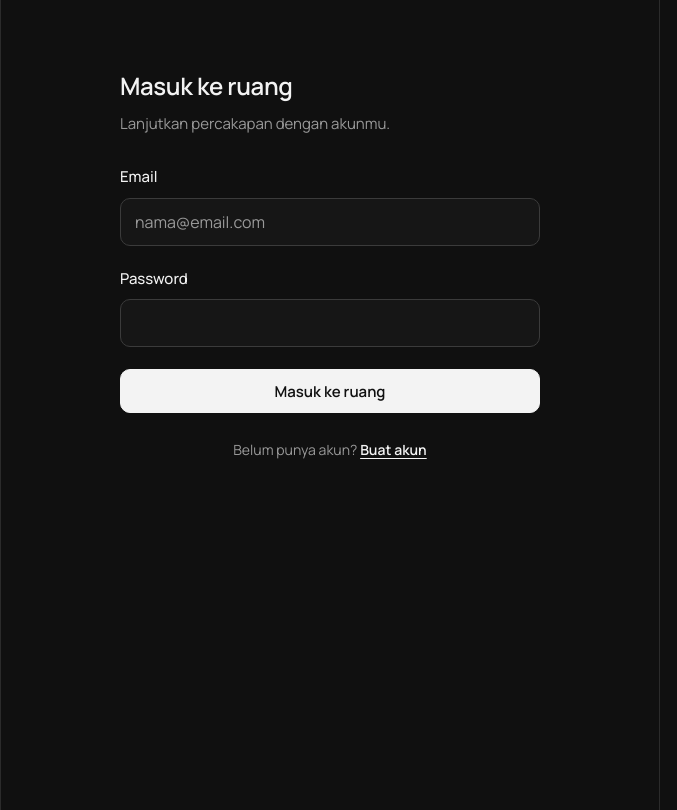
Test case: keeps the email and allows retry when login fails
Type "ayu@example.com" into the field labelled "Email" at coordinates (330, 222), box [120, 198, 540, 246]
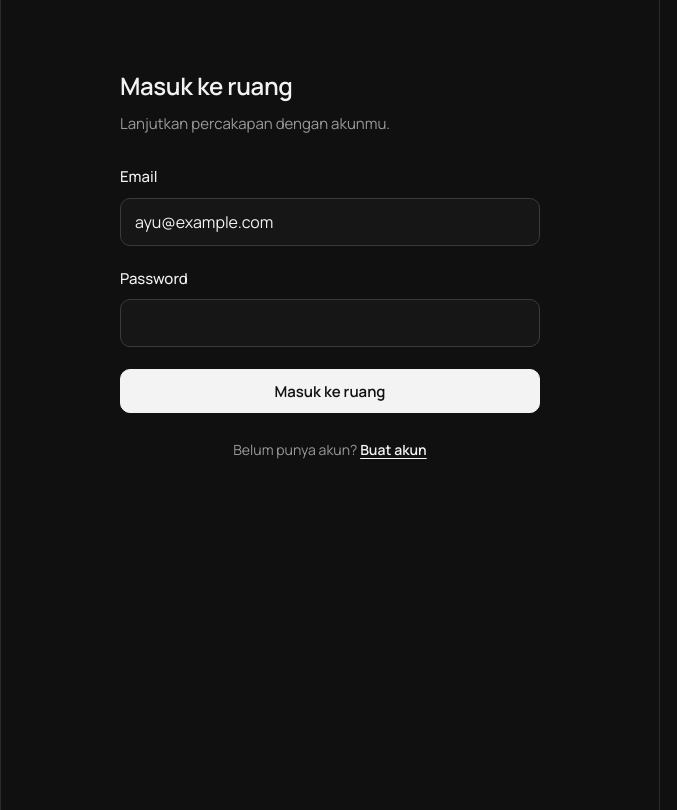
Type "secret" into the password field labelled "Password" at coordinates (330, 323), box [120, 299, 540, 347]
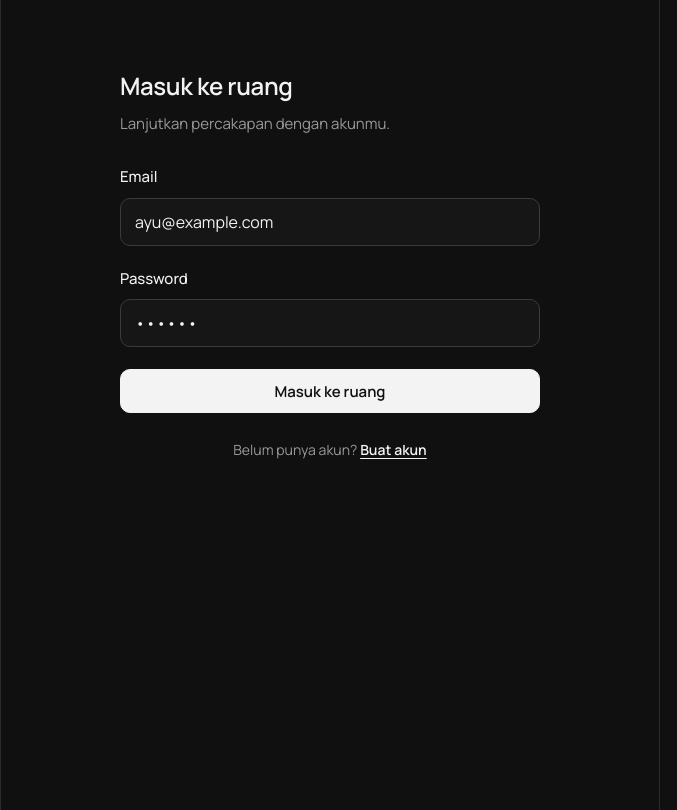
Click the button "Masuk ke ruang" at coordinates (330, 391), box [120, 369, 540, 413]
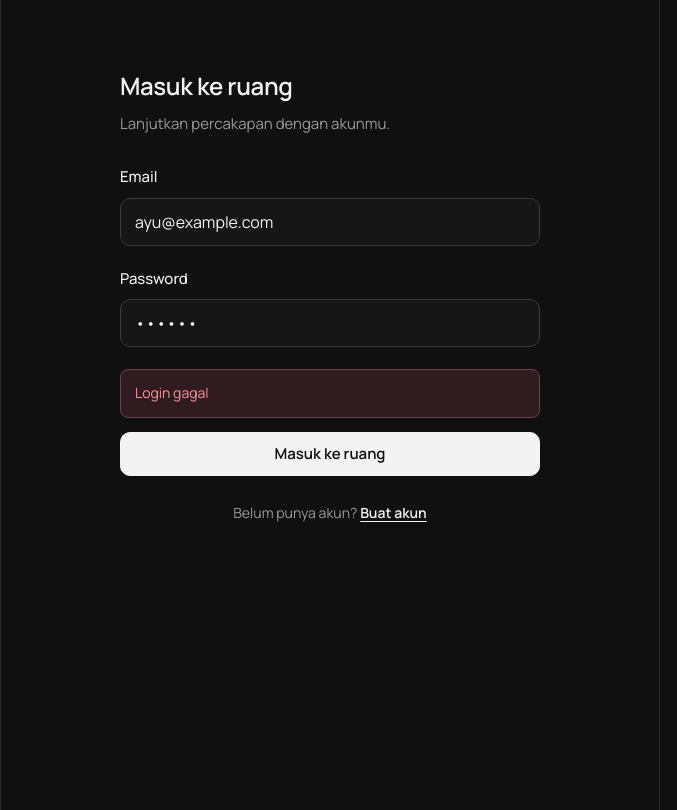
Expected: the button "Masuk ke ruang" is enabled, [120, 432, 540, 476]
Now the message reads "Login gagal", box [135, 383, 208, 402]
